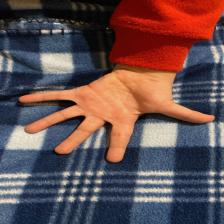five: (18, 68, 218, 163)
